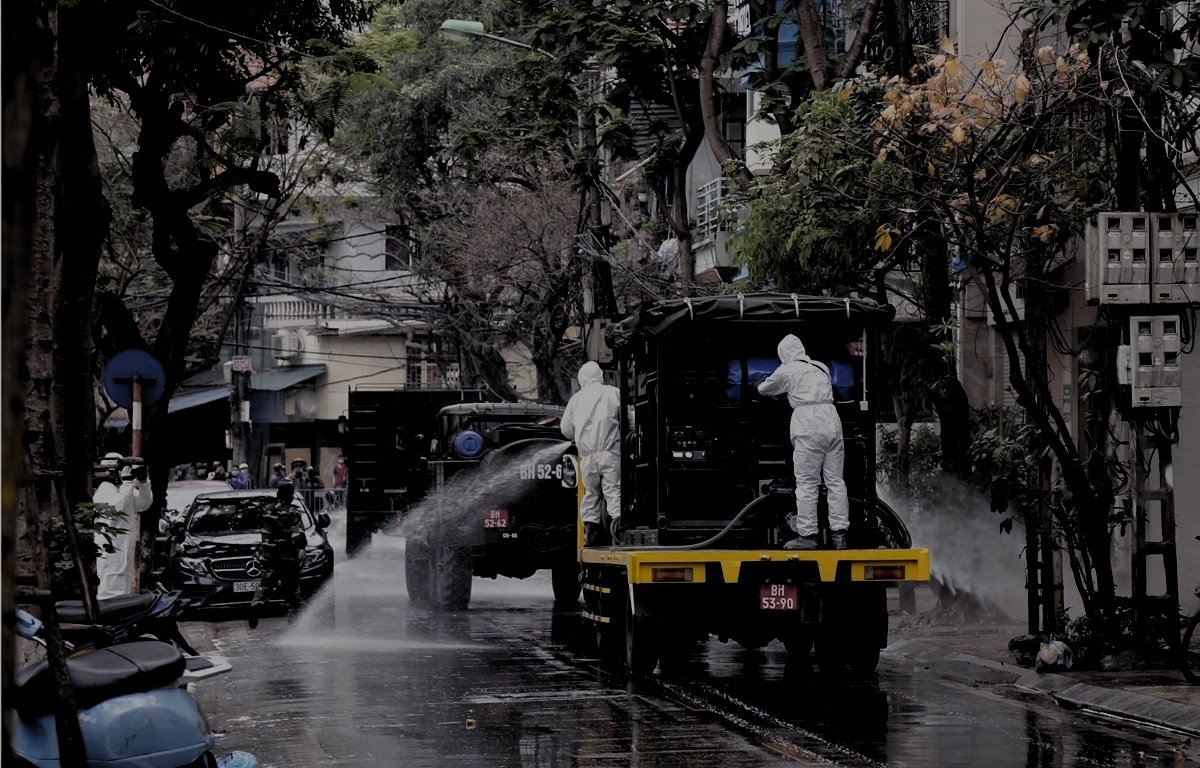plate: (756, 582, 805, 617), (231, 577, 274, 601), (477, 504, 510, 530)
